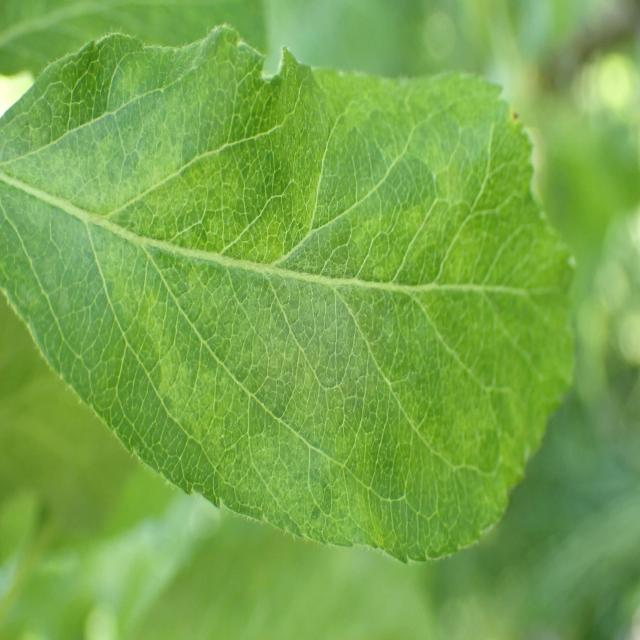scab: (16, 66, 552, 544)
